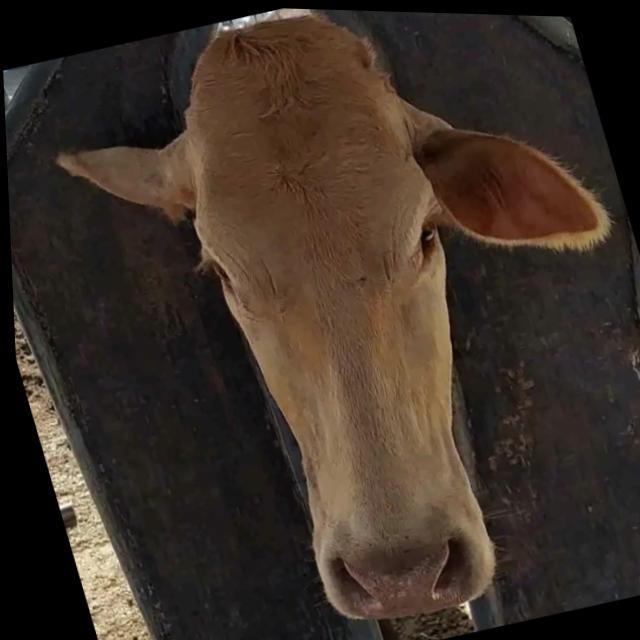cowFace: (142, 3, 551, 640)
